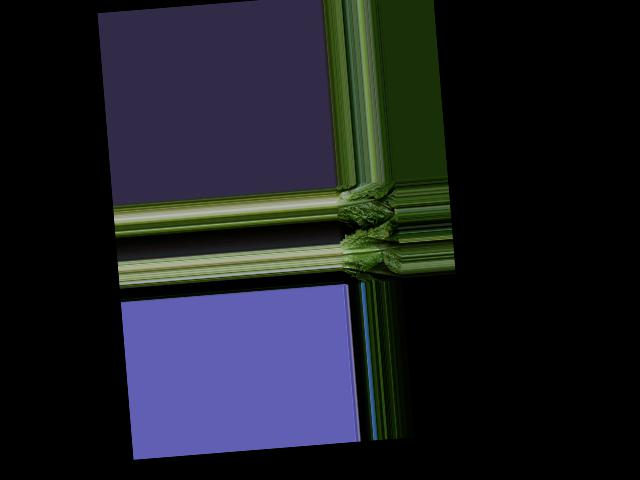lettuce: (334, 183, 394, 227)
